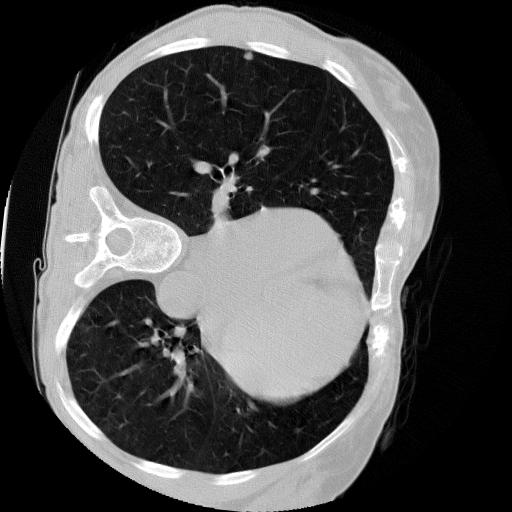nodule: (242, 49, 257, 64)
